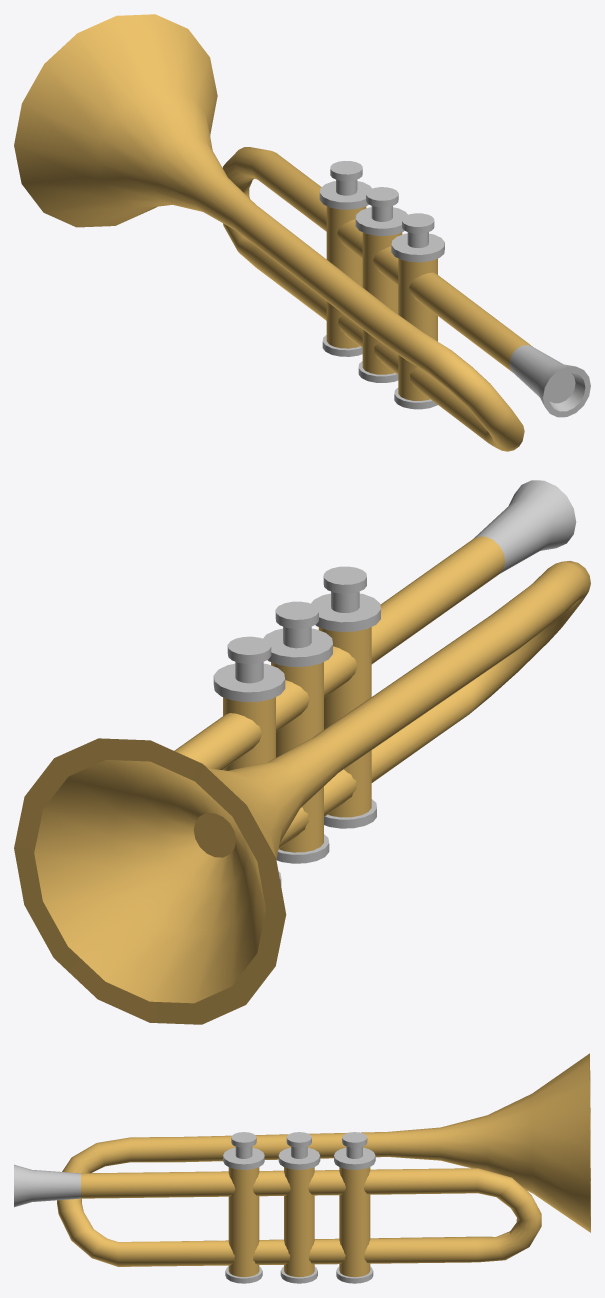
File: Trumpet.fbx
3 renders of one model, top to bottom at view 1: azimuth 30°, elevation 25°; view 2: azimuth 150°, elevation 25°; view 3: azimuth 270°, elevation 25°, orthographic. The views are drawn at different scales.
Visible parts, largest first — view 1: Trumpet, Cylinders; view 2: Trumpet, Cylinders; view 3: Trumpet, Cylinders.
Boxes of the visible parts, box(x1,y1,x2,y2) form: Trumpet: box(14, 14, 590, 451); Cylinders: box(319, 161, 444, 409); Trumpet: box(14, 480, 590, 1024); Cylinders: box(213, 566, 380, 885); Trumpet: box(14, 1053, 590, 1266); Cylinders: box(223, 1132, 375, 1283).
Size of the model in its own units: 0.6619 by 0.7401 by 2.1.
